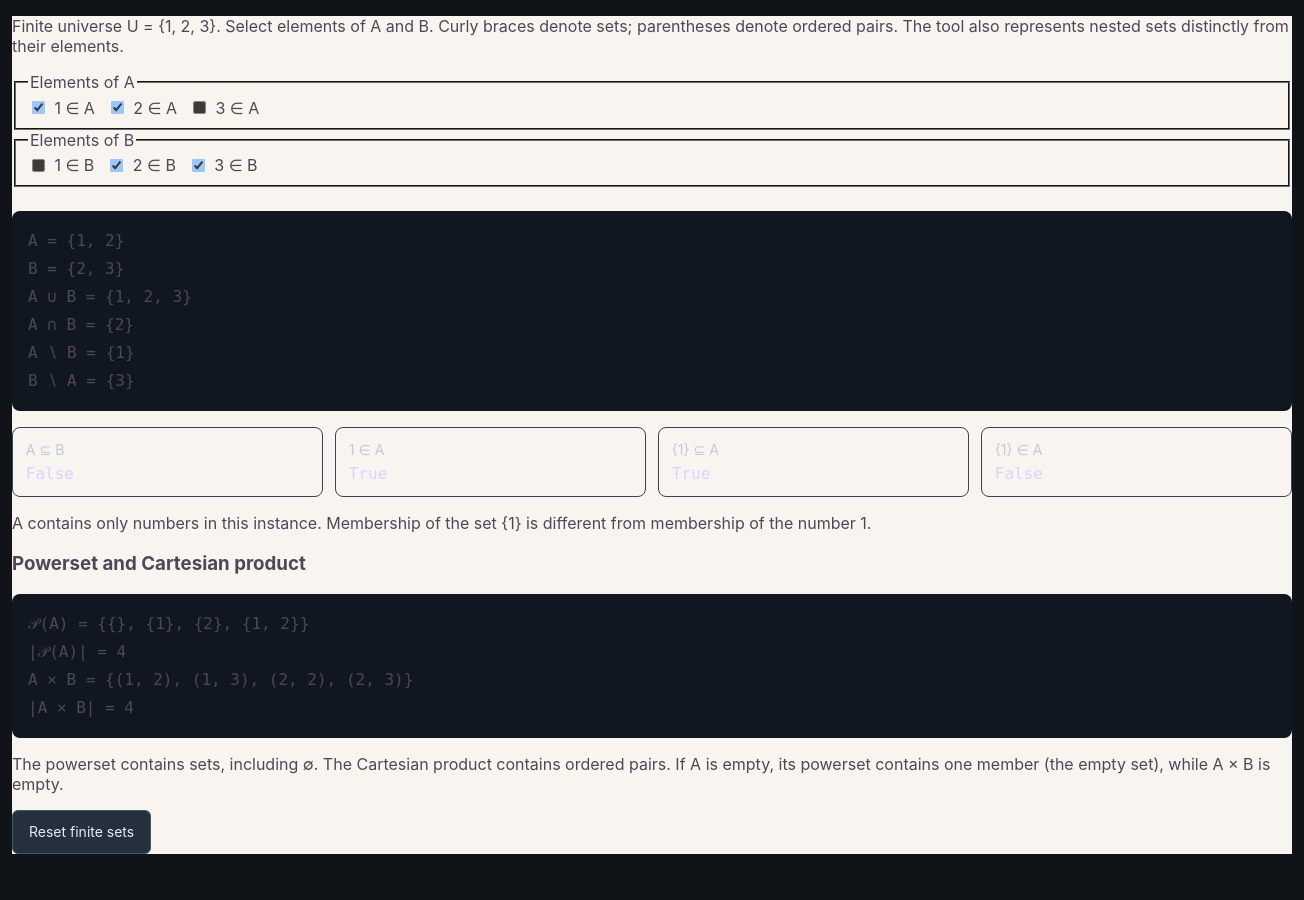
it: R&L workspace controls preserve their mathematical claims › separates membership from subset claims and preserves powerset/product behavior for empty A
Expected: the text "1 ∈ A" is shown, left=349, top=441, right=384, bottom=458
Expected: the text "{1} ⊆ A" is shown, left=672, top=441, right=719, bottom=458
Click the checkbox labelled "1 ∈ A". click: (38, 108)
box: left=32, top=101, right=45, bottom=114
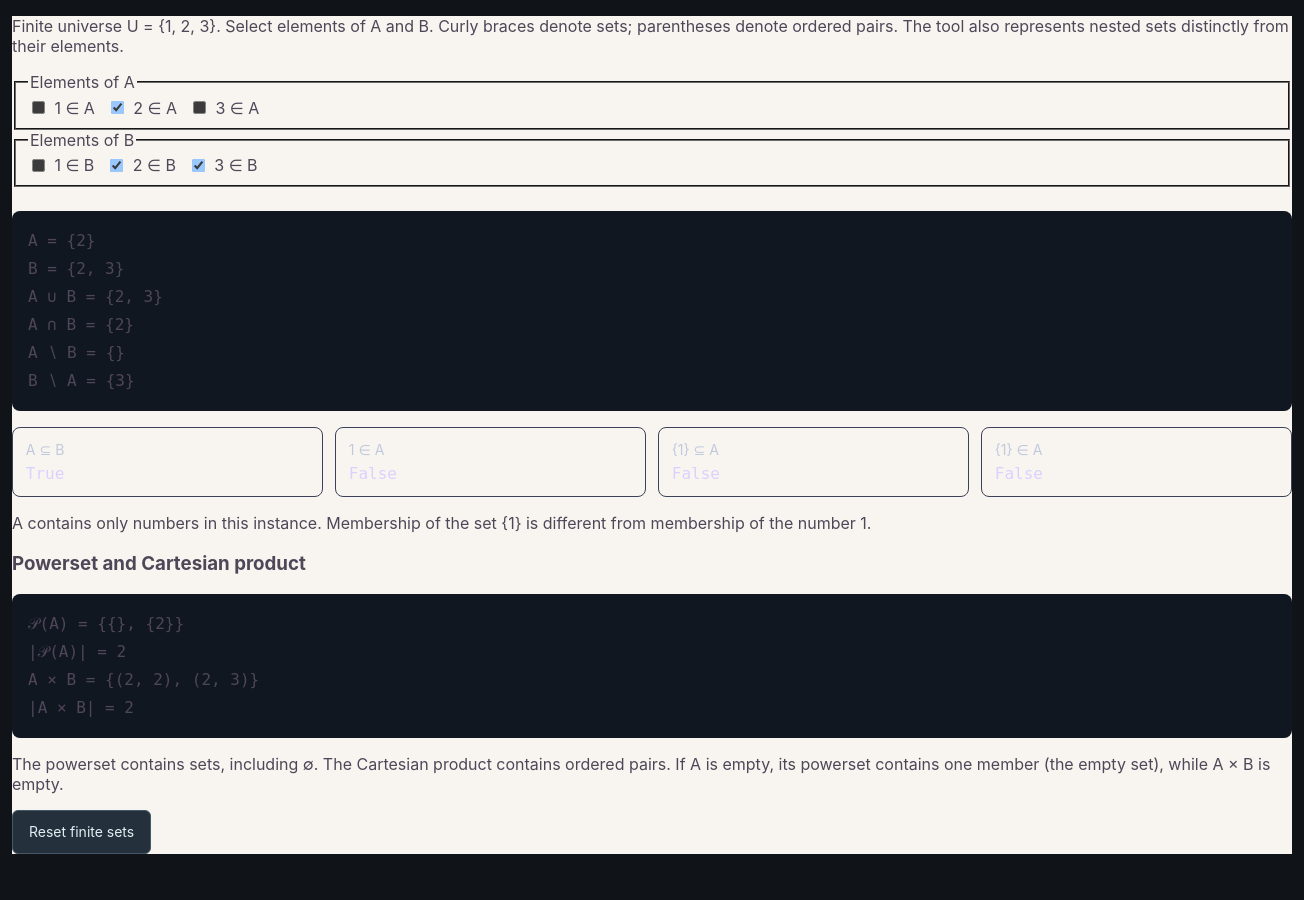
Expected: the label "2 ∈ A" is shown, left=107, top=98, right=177, bottom=118
Click the checkbox labelled "2 ∈ A". click: (117, 108)
box: left=111, top=101, right=124, bottom=114
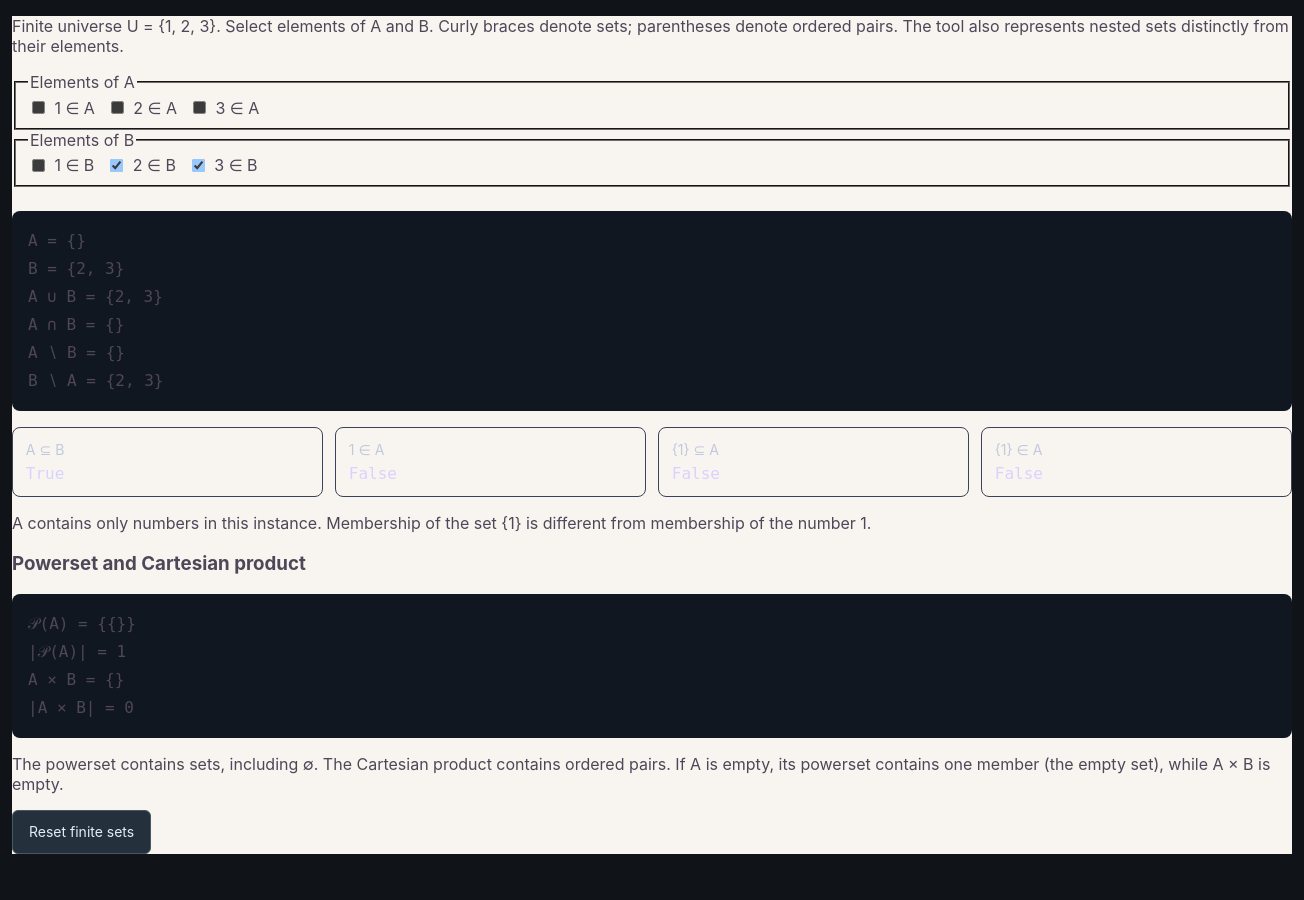
Expected: the text "A ⊆ B" is shown, left=26, top=441, right=64, bottom=458
Result: the text "True" is shown at left=26, top=464, right=64, bottom=483
Result: the 1st text "False" is shown at left=349, top=464, right=397, bottom=483
Click the button "Reset finite sets". click: (82, 832)
box: left=12, top=810, right=151, bottom=854
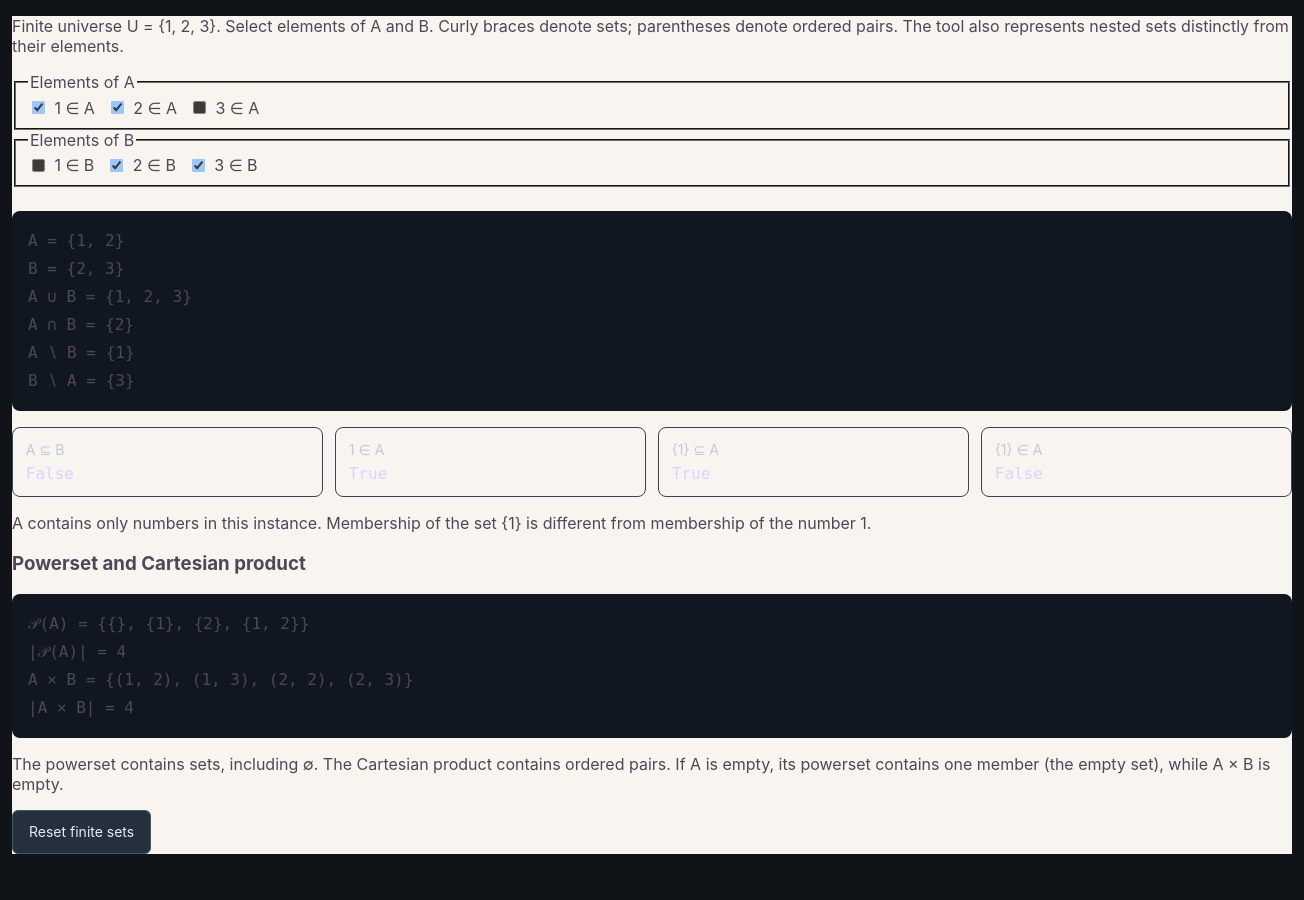
Expected: the text "1 ∈ A" is shown, left=349, top=441, right=384, bottom=458
Result: the 1st text "True" is shown at left=349, top=464, right=387, bottom=483
